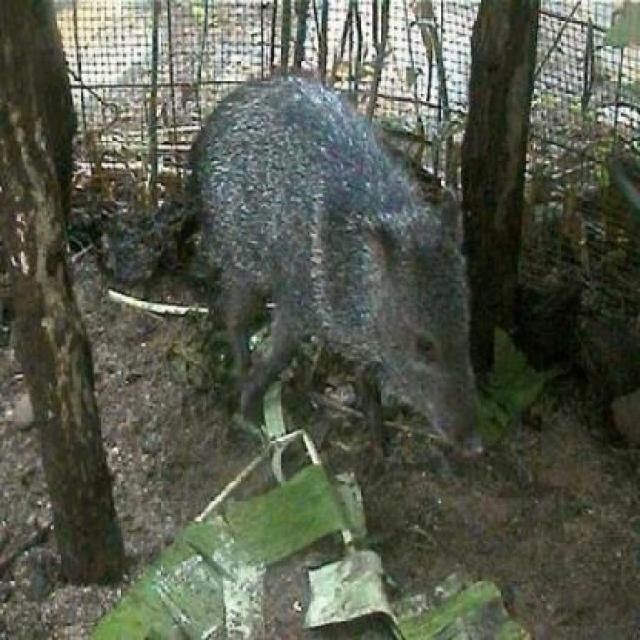pig: (142, 43, 478, 466)
